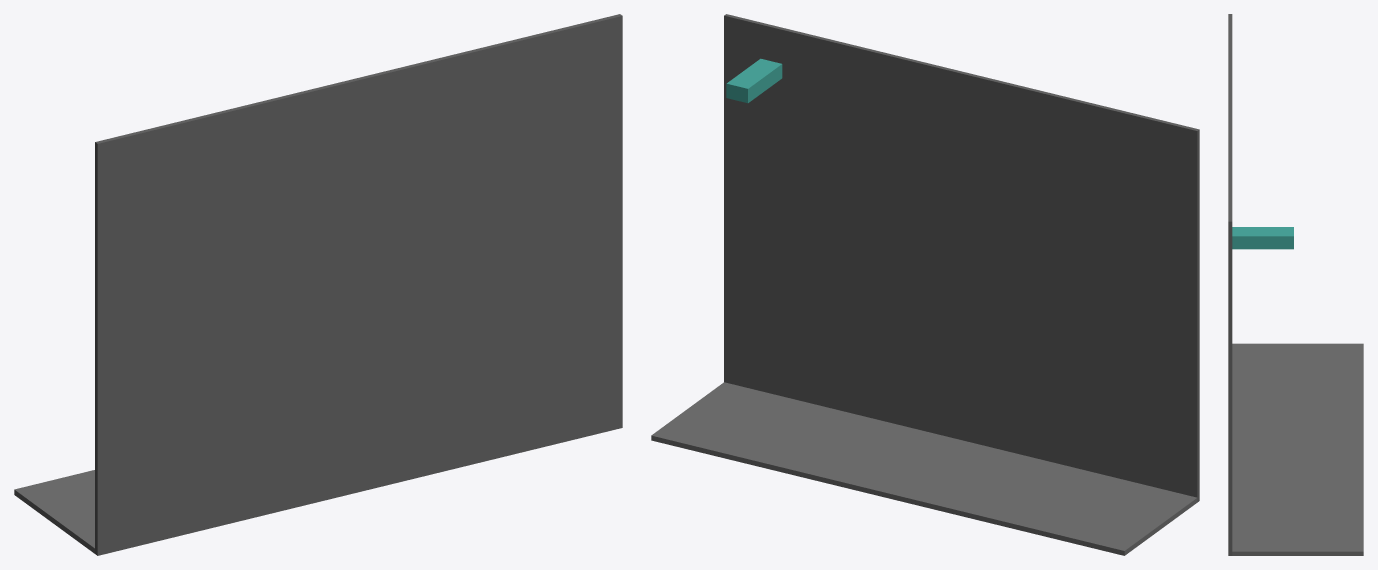
The model's file is charging_bay.glb.
3 renders of one model, left to right at view 1: azimuth 30°, elevation 25°; view 2: azimuth 150°, elevation 25°; view 3: azimuth 270°, elevation 25°, orthographic. The views are drawn at different scales.
Parts seen in each view (by area): view 1: charging_bay_ground, charging_bay_backwall; view 2: charging_bay_ground, charging_bay_backwall, charging_bay_charger_pedestal; view 3: charging_bay_backwall, charging_bay_ground, charging_bay_charger_pedestal.
Part boxes in pixels (x1,y1,x2,y2): charging_bay_ground: [95, 14, 622, 555]; charging_bay_backwall: [14, 470, 94, 553]; charging_bay_ground: [724, 14, 1199, 502]; charging_bay_backwall: [651, 382, 1197, 555]; charging_bay_charger_pedestal: [726, 58, 782, 103]; charging_bay_backwall: [1232, 343, 1363, 555]; charging_bay_ground: [1228, 14, 1232, 555]; charging_bay_charger_pedestal: [1232, 227, 1293, 249].
Size of the model in its own units: 12 by 9 by 3.3.
